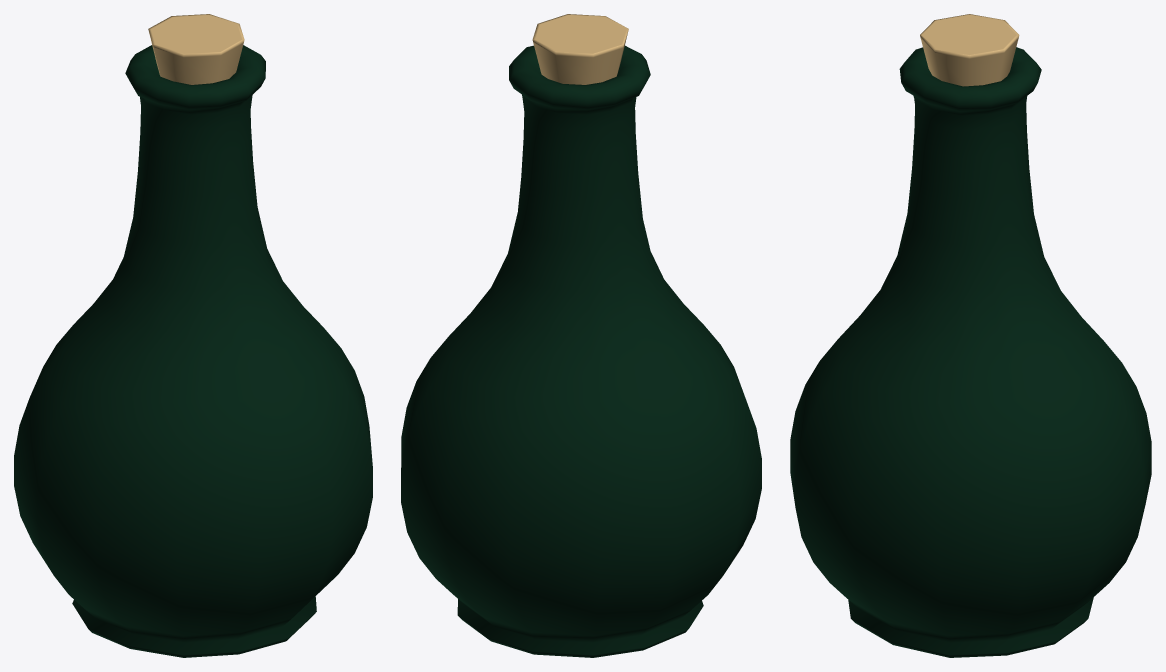
File: EmptyBecker.fbx
3 renders of one model, left to right at view 1: azimuth 30°, elevation 25°; view 2: azimuth 150°, elevation 25°; view 3: azimuth 270°, elevation 25°, orthographic.
Visible parts, largest first — view 1: EmptyBecker_LOD0; view 2: EmptyBecker_LOD0; view 3: EmptyBecker_LOD0.
Part boxes in pixels (left/top/right/bottom): EmptyBecker_LOD0: left=14, top=14, right=372, bottom=657; EmptyBecker_LOD0: left=401, top=14, right=761, bottom=657; EmptyBecker_LOD0: left=790, top=14, right=1151, bottom=657.
Size of what is drawn, in the model's own units: 314 by 542 by 311.
